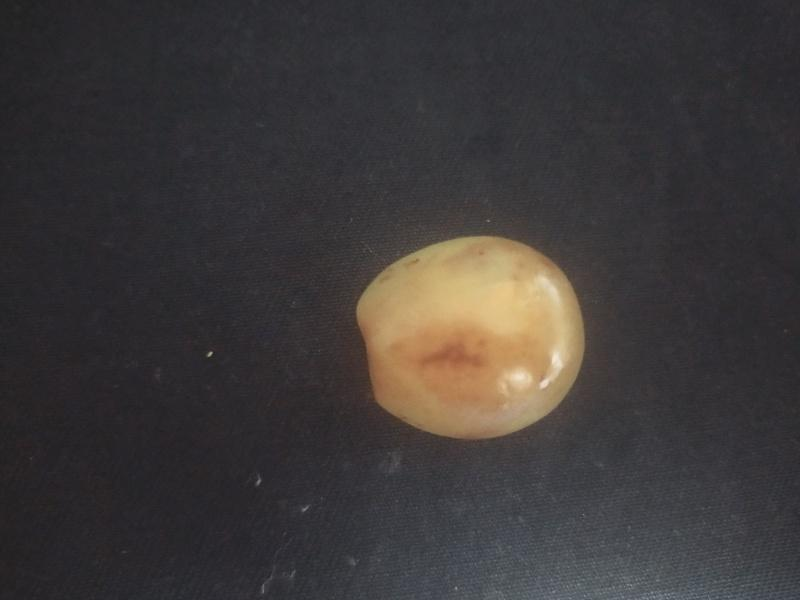Grape Rotten: (353, 232, 587, 441)
